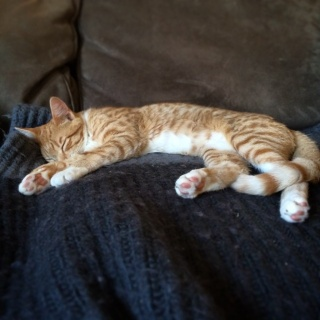Cat: (10, 90, 319, 225)
